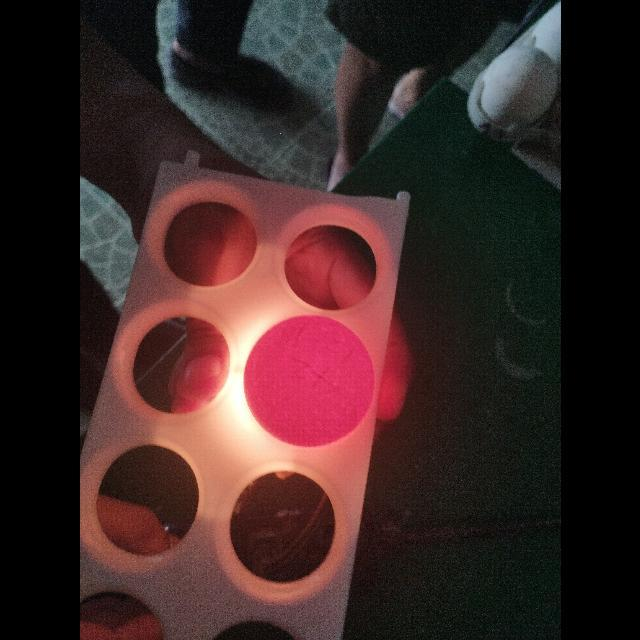Infertile: (248, 313, 368, 432)
